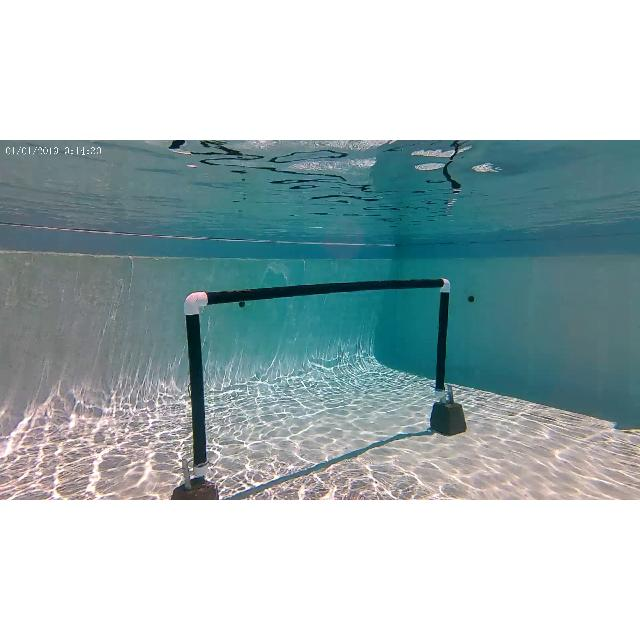prequal gate: (184, 277, 450, 478)
prequal gate leg l: (175, 280, 218, 488)
prequal gate leg r: (428, 275, 452, 407)
